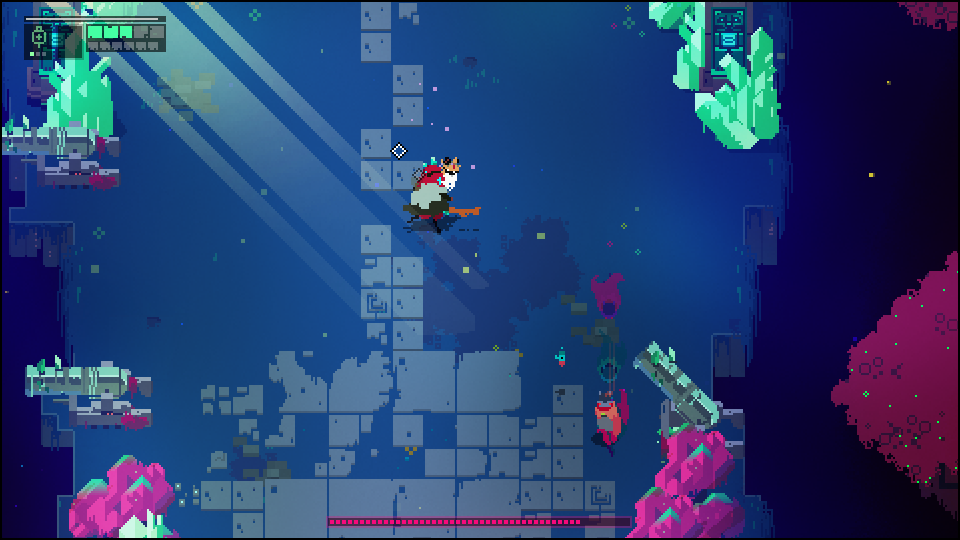hanged_man: (405, 155, 482, 224)
player: (593, 390, 620, 449)
